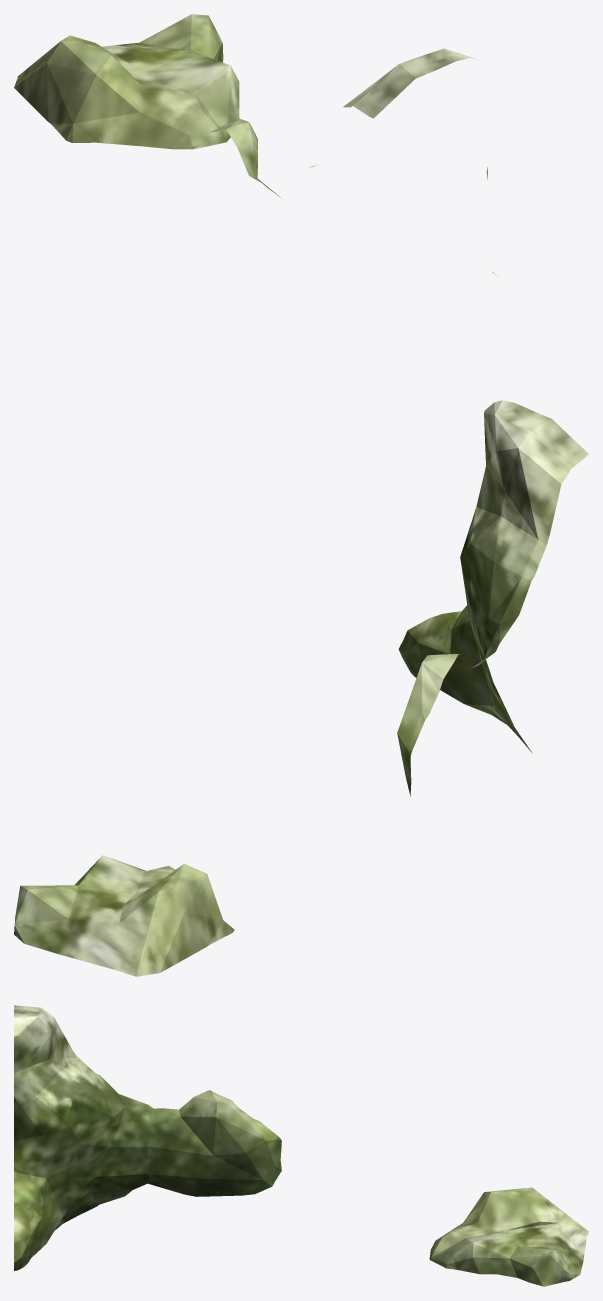
3 renders of one model, top to bottom at view 1: azimuth 30°, elevation 25°; view 2: azimuth 150°, elevation 25°; view 3: azimuth 270°, elevation 25°, orthographic. The views are drawn at different scales.
Bounding box in the file's own units: 0.7196 × 0.9124 × 2.17.
Materials: 1 (1 with a texture image).
